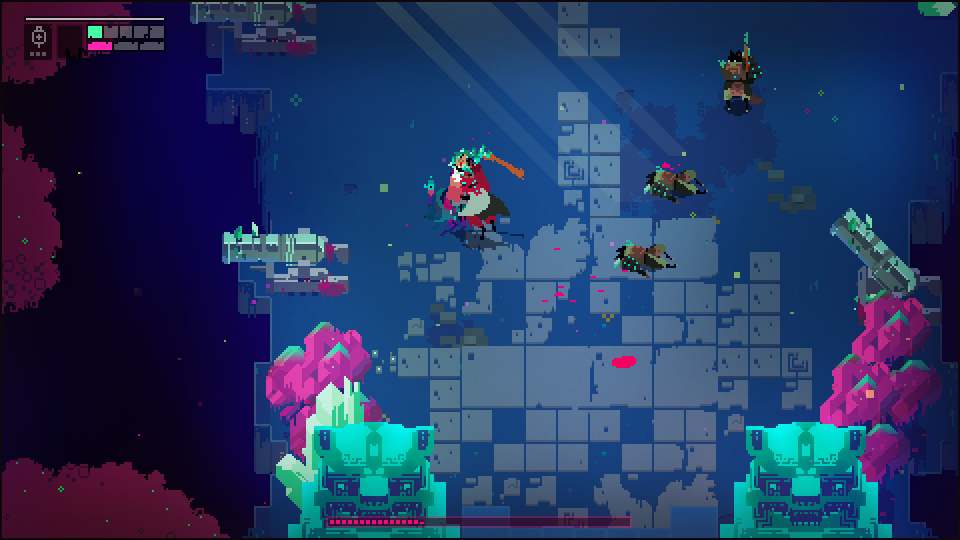hanged_man: (441, 141, 522, 236)
